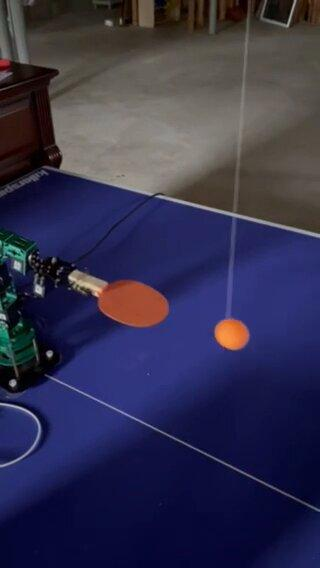oball: (211, 319, 248, 348)
